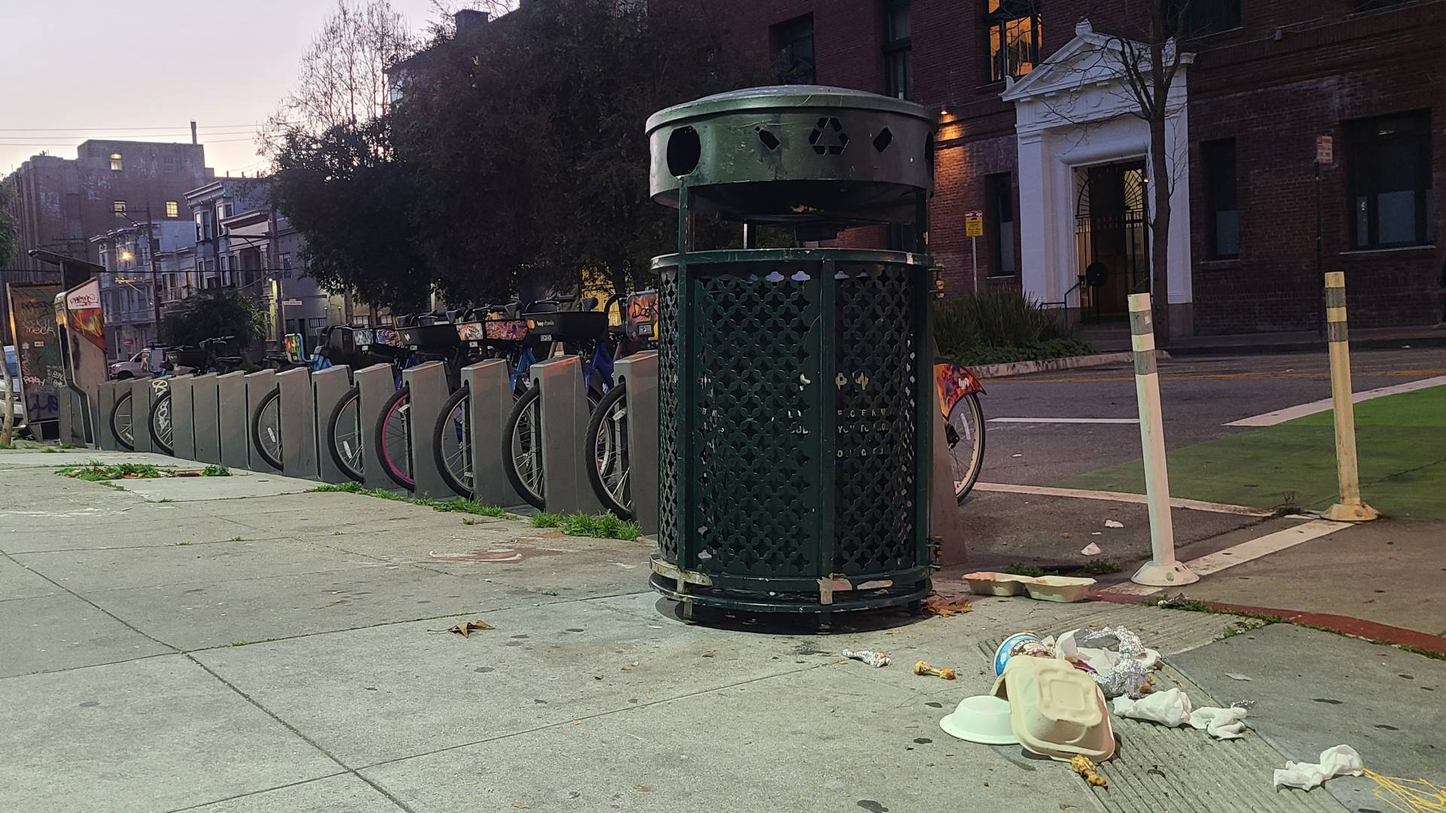TrashBin: (615, 72, 972, 632)
